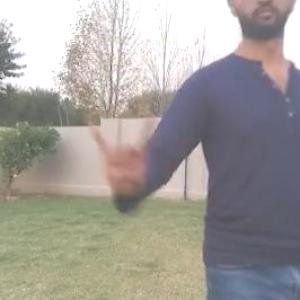takeoff-hand: (82, 106, 153, 204)
